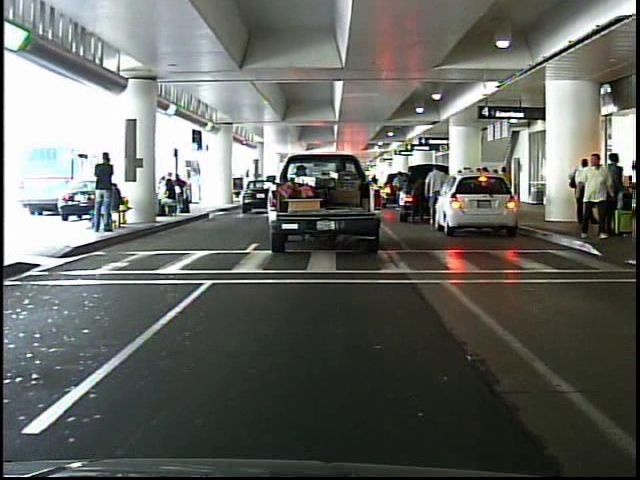person: (571, 144, 613, 245), (94, 147, 121, 234), (591, 152, 616, 241), (421, 161, 451, 232), (189, 166, 203, 209)
